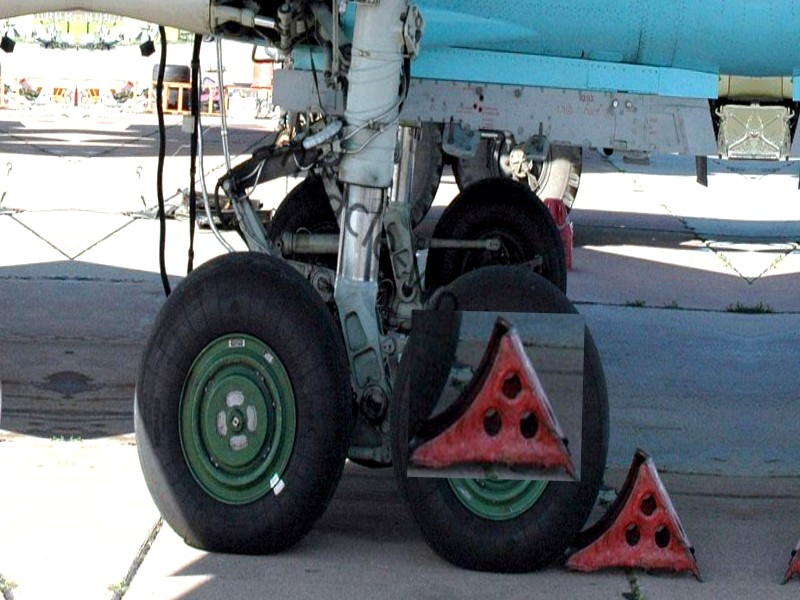chock: (407, 309, 585, 481), (563, 444, 709, 583)
wheel: (389, 258, 616, 578), (128, 245, 358, 560), (425, 175, 571, 297), (262, 172, 346, 270)
